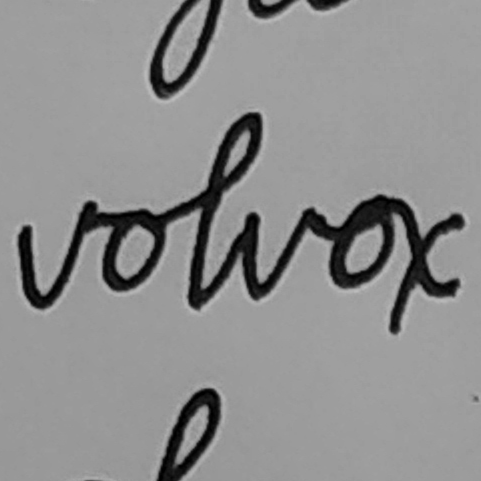l: (183, 106, 266, 313)
o: (325, 192, 400, 292), (98, 204, 169, 295)
v: (12, 197, 98, 311), (231, 197, 319, 307)
x: (380, 189, 468, 338)
